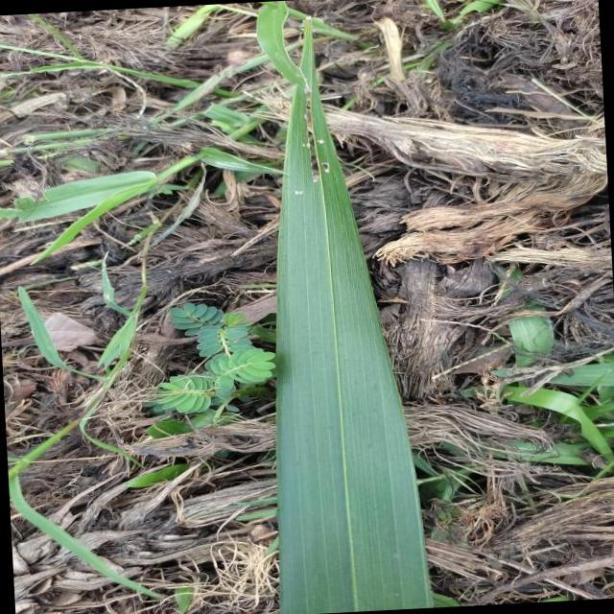Boron: (270, 12, 436, 614)
